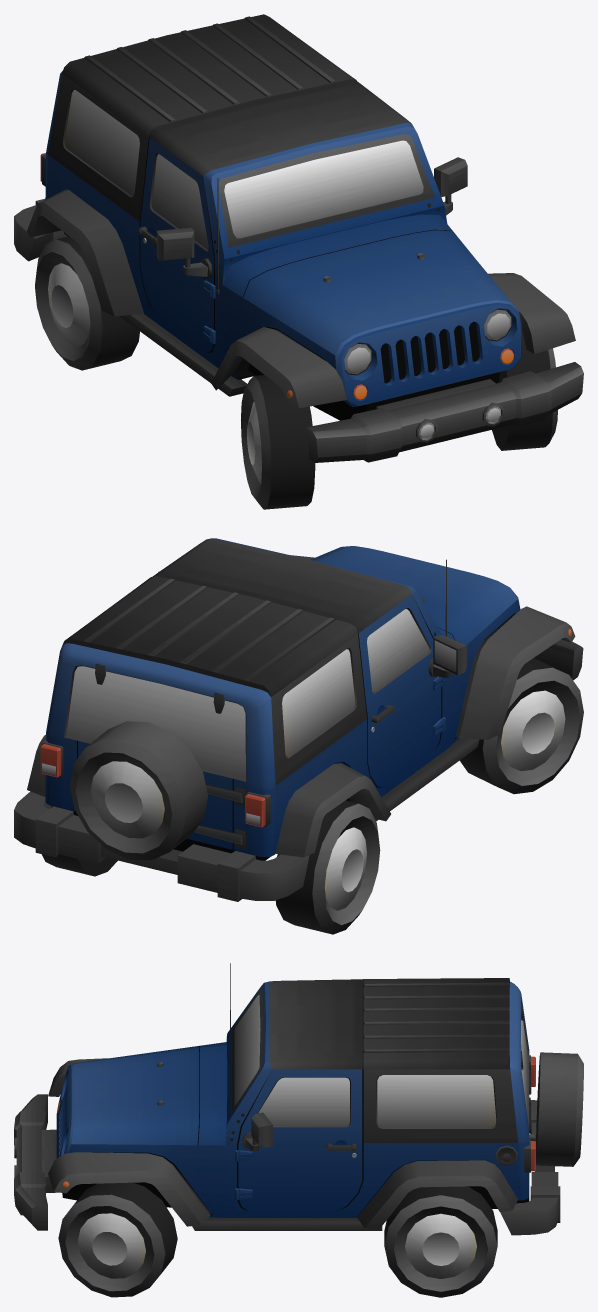
The model's file is cv-wrangler.glb.
3 views of the same model, one above another, from view 1: azimuth 30°, elevation 25°; view 2: azimuth 150°, elevation 25°; view 3: azimuth 270°, elevation 25° (orthographic). The views are drawn at different scales.
Parts seen in each view (by area): view 1: FRW_Vehicle_0; view 2: FRW_Vehicle_0; view 3: FRW_Vehicle_0.
Boxes of the visible parts, x1,y1,x2,y2 form: FRW_Vehicle_0: (14,14,583,509); FRW_Vehicle_0: (14,538,583,934); FRW_Vehicle_0: (14,963,583,1297).
Size of the model in its own units: 2.3 by 1.88 by 4.22.
Materials: 1 (1 with a texture image).
